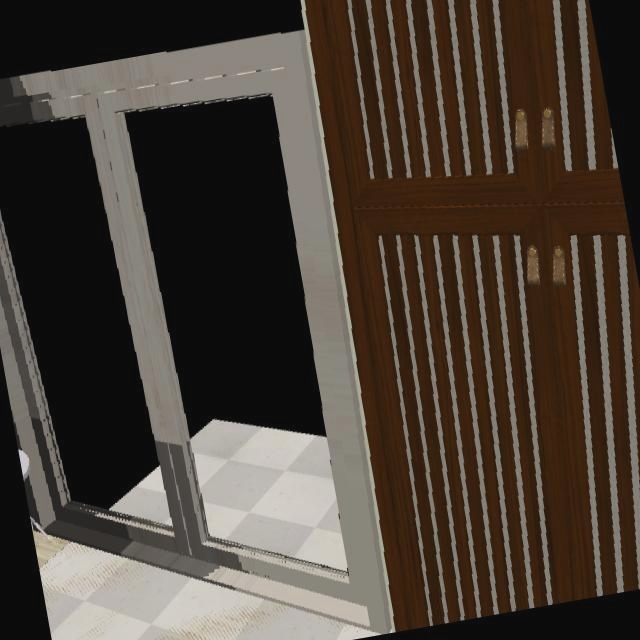wardrobe: (302, 0, 640, 631)
